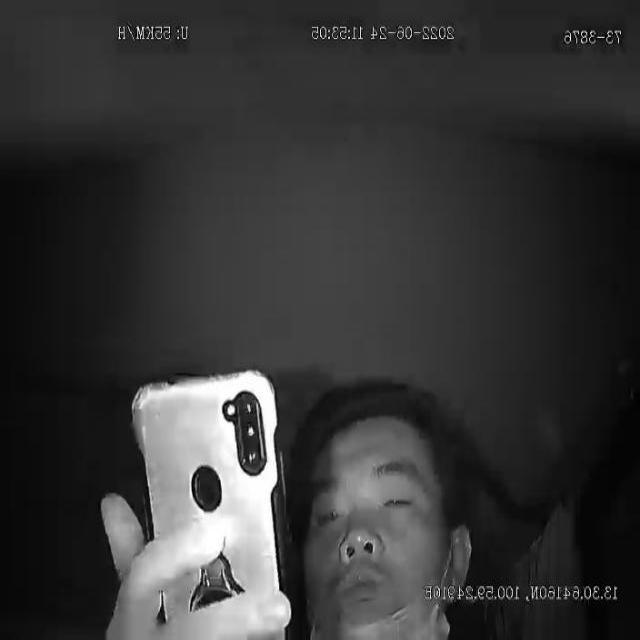phone: (130, 366, 294, 638)
